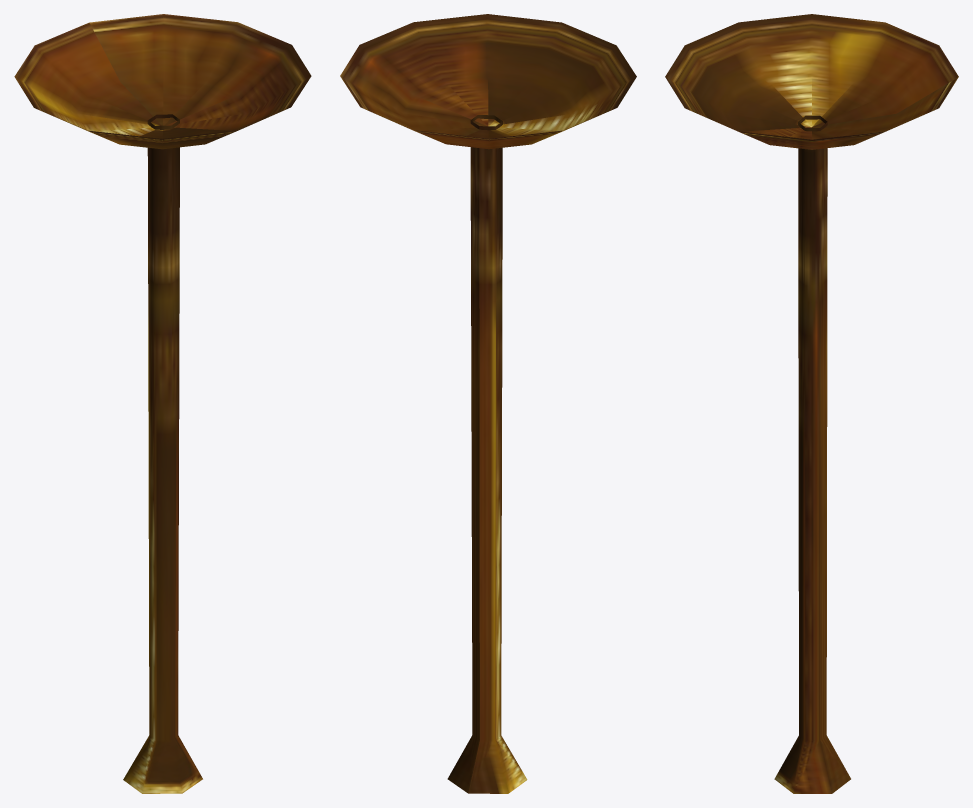
File: brand.glb
The picture shows the model from 3 angles, left to right: view 1: azimuth 30°, elevation 25°; view 2: azimuth 150°, elevation 25°; view 3: azimuth 270°, elevation 25°; orthographic projection.
Visible parts, largest first — view 1: brand.ms3d.mo; view 2: brand.ms3d.mo; view 3: brand.ms3d.mo.
Boxes of the visible parts, x1,y1,x2,y2 form: brand.ms3d.mo: [14, 14, 311, 793]; brand.ms3d.mo: [340, 14, 636, 793]; brand.ms3d.mo: [665, 14, 958, 793].
Size of the model in its own units: 6.47 by 16.84 by 6.39.
Materials: 1 (1 with a texture image).
